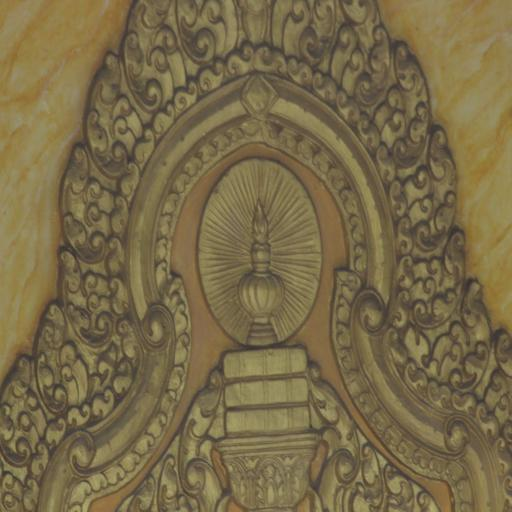lua: (306, 371, 357, 512), (65, 142, 122, 254), (89, 54, 144, 167), (59, 244, 122, 342), (124, 2, 182, 108), (404, 130, 457, 244), (179, 369, 218, 512), (32, 306, 84, 410), (379, 45, 426, 160), (412, 226, 467, 323), (442, 285, 490, 383), (341, 1, 386, 101), (0, 358, 40, 461), (179, 0, 236, 58), (285, 0, 338, 60), (488, 325, 512, 428), (360, 440, 389, 512), (385, 459, 409, 512), (158, 458, 178, 512), (473, 394, 498, 436), (118, 320, 140, 365), (449, 381, 480, 412), (424, 375, 448, 412), (493, 428, 512, 474), (130, 476, 153, 512), (89, 385, 113, 419), (196, 65, 224, 94), (117, 154, 137, 194), (22, 470, 40, 512), (404, 366, 429, 396), (137, 117, 153, 161), (111, 273, 128, 314), (154, 98, 173, 134), (112, 363, 134, 394), (176, 77, 199, 106), (110, 234, 124, 281), (388, 330, 405, 368), (110, 192, 126, 230), (32, 440, 48, 478), (68, 401, 88, 427), (44, 418, 64, 444), (501, 466, 512, 512)
